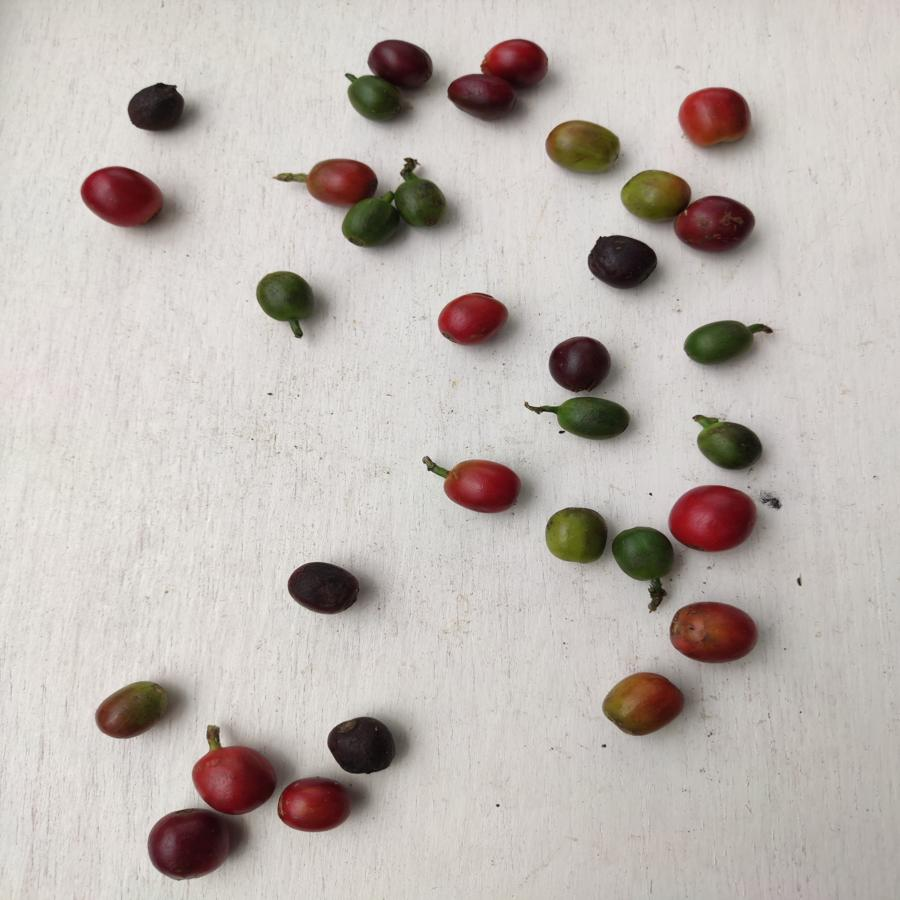Inmaduro: (548, 394, 634, 439), (693, 418, 762, 471), (610, 526, 678, 579), (682, 317, 754, 366), (339, 195, 399, 250), (392, 175, 452, 229), (258, 267, 318, 320), (346, 76, 412, 117)
Maduro: (667, 482, 755, 552), (188, 746, 279, 813), (82, 161, 164, 229), (677, 83, 754, 152), (432, 459, 523, 513), (276, 777, 356, 834), (435, 292, 508, 345), (477, 36, 554, 86), (302, 155, 378, 200)
Pinton: (668, 601, 759, 665), (602, 667, 681, 737), (93, 680, 169, 741), (546, 115, 620, 171), (546, 507, 606, 567), (620, 169, 689, 220)
Sobremaduro: (147, 811, 231, 885), (681, 192, 757, 257), (284, 562, 364, 617), (328, 716, 397, 779), (589, 233, 656, 292), (549, 337, 611, 397), (446, 73, 520, 123), (124, 81, 190, 134), (367, 38, 435, 86)
